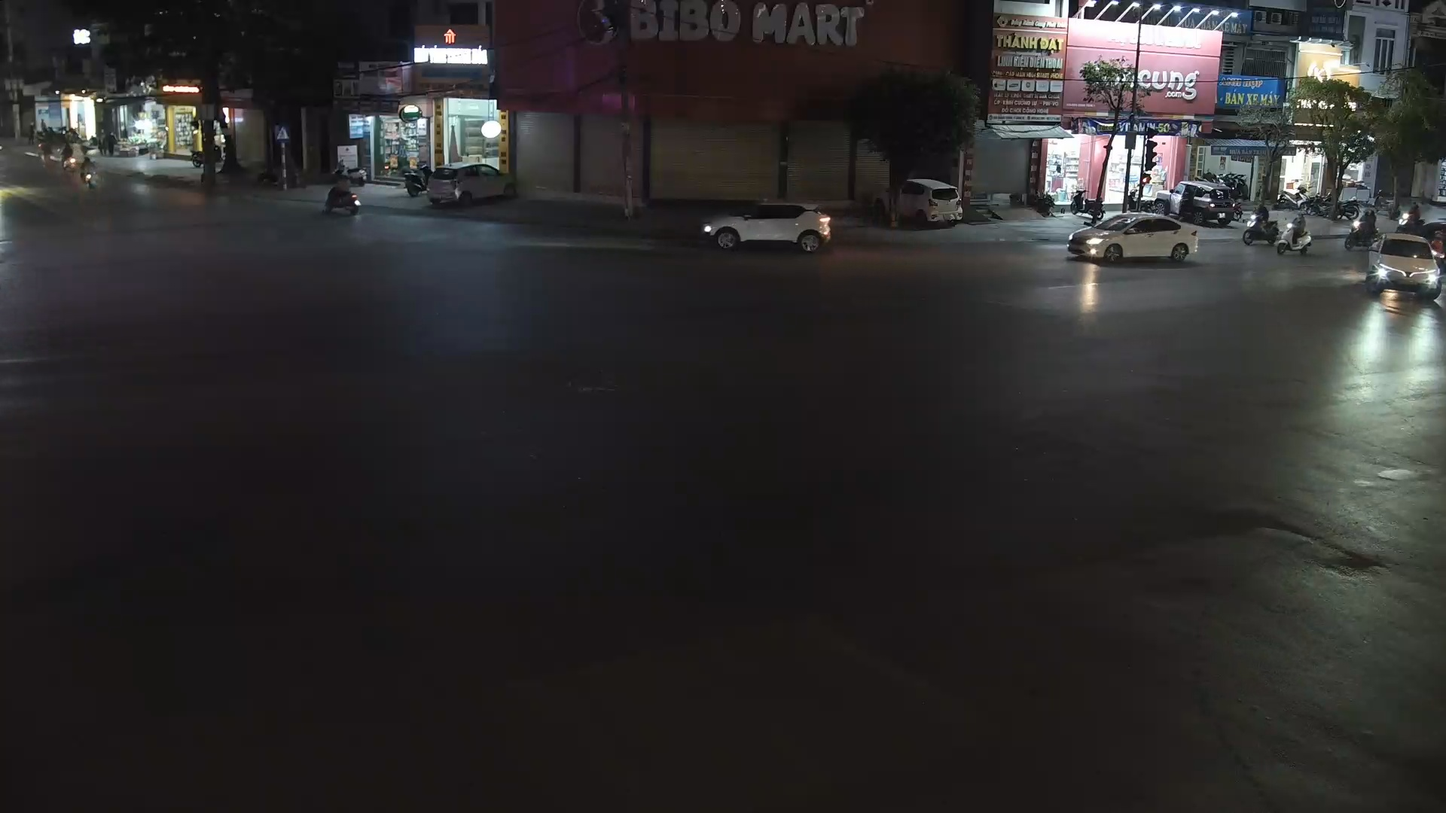car: (1066, 209, 1200, 268), (700, 205, 835, 253), (1365, 231, 1445, 304)
